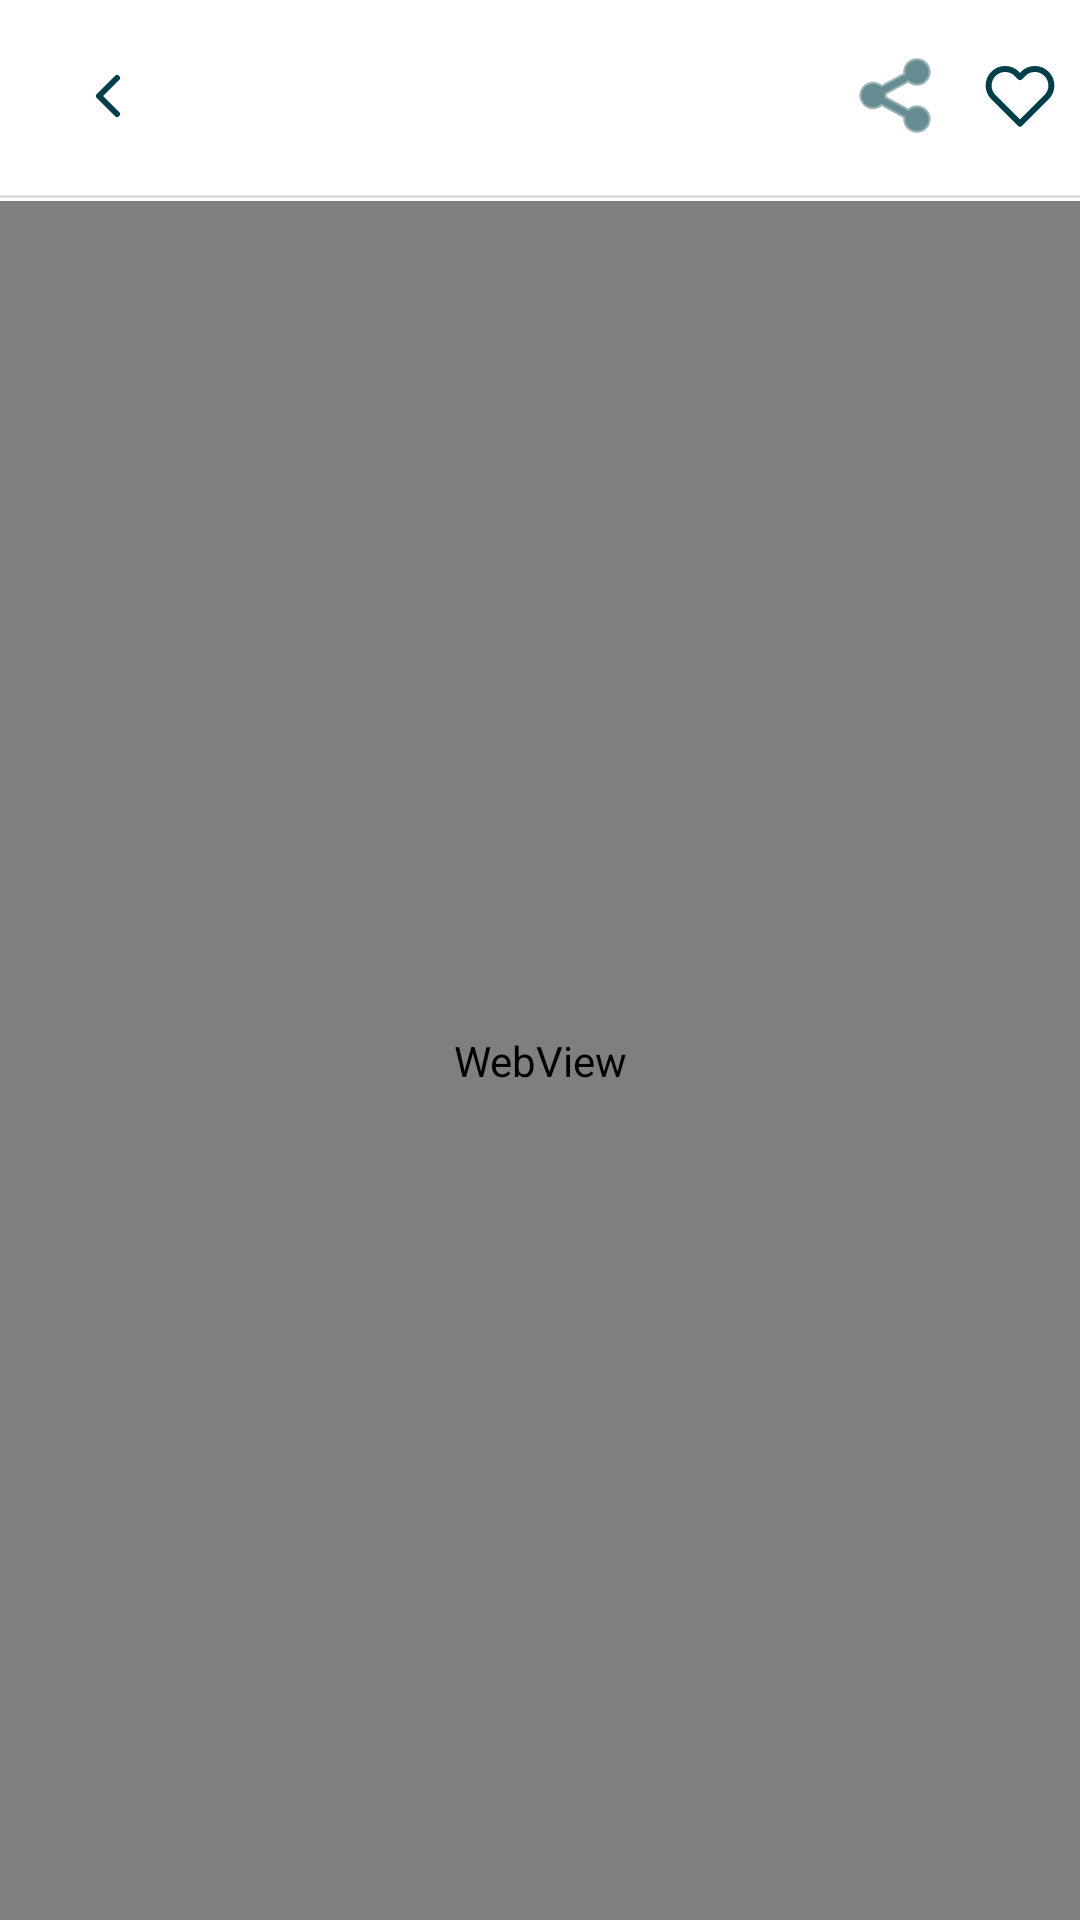

Named icons in this screenshot (1080×1920) and their bounding boxes, (x1, y1, x2, y2):
arrow back: (96, 75, 120, 117)
heart: (985, 66, 1055, 127)
share: (859, 58, 931, 133)
